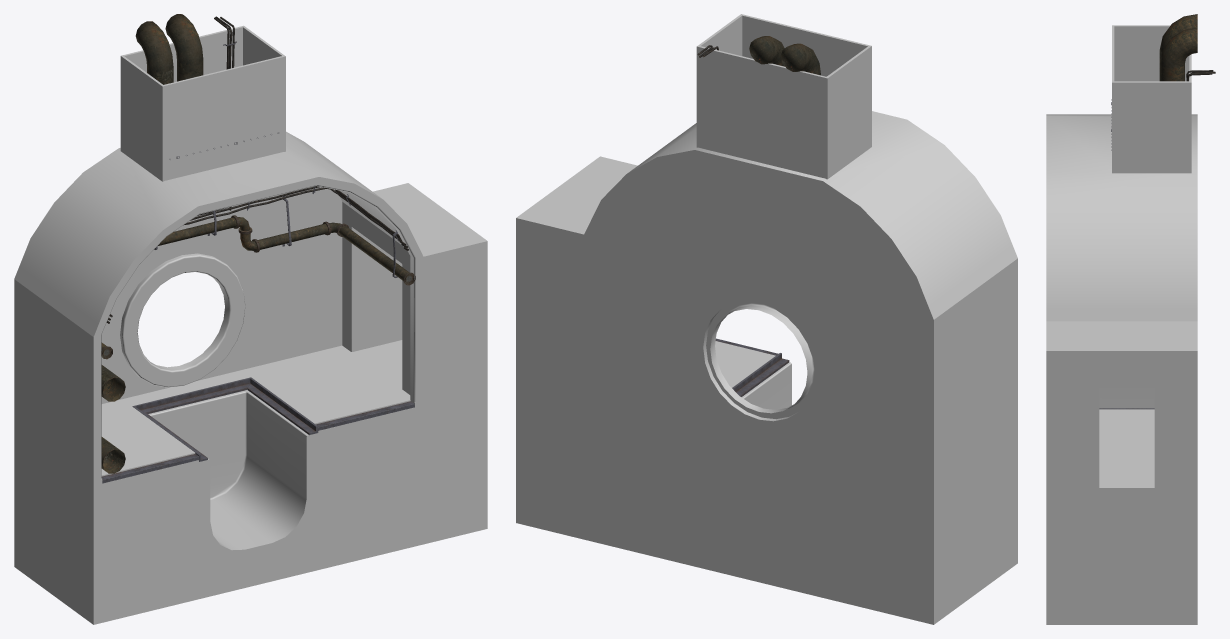
Rendered from SM_Sewer_Tunnel_I.fbx.
The picture shows the model from 3 angles, left to right: view 1: azimuth 30°, elevation 25°; view 2: azimuth 150°, elevation 25°; view 3: azimuth 270°, elevation 25°; orthographic projection. The views are drawn at different scales.
Visible parts, largest first — view 1: SMD_Sewer_Base_G_00, Ceiling, Wall_Right, SMD_Sewer_Wall_Gate_H, Wall_left, SMD_Sewer_Wall_Gate_Halo, Pipes_Big, SMD_Sewer_Halo_10, Pipes_Small, Rubber, polySurface405, SM_Sewer_Wall_C2 (+3 smaller); view 2: SMD_Sewer_Base_G_00, Ceiling, SMD_Sewer_Wall_Gate_H, Wall_Right, Wall_left, SMD_Sewer_Wall_Gate_Halo, Pipes_Big, SM_Sewer_Wall_C2, polySurface403; view 3: Ceiling, SMD_Sewer_Base_G_00, SM_Sewer_Wall_C2, Wall_Right, Pipes_Big.
Part boxes in pixels (x1,y1,x2,y2): SMD_Sewer_Base_G_00: [14, 340, 487, 624]; Ceiling: [14, 25, 423, 336]; Wall_Right: [342, 184, 483, 401]; SMD_Sewer_Wall_Gate_H: [101, 202, 342, 403]; Wall_left: [14, 279, 98, 480]; SMD_Sewer_Wall_Gate_Halo: [120, 253, 245, 387]; Pipes_Big: [101, 14, 203, 473]; SMD_Sewer_Halo_10: [97, 181, 419, 480]; Pipes_Small: [101, 217, 414, 357]; Rubber: [106, 16, 408, 323]; polySurface405: [133, 377, 250, 413]; SM_Sewer_Wall_C2: [404, 183, 487, 385]; SMD_Sewer_Base_G_00: [516, 341, 1017, 624]; Ceiling: [584, 14, 1017, 319]; SMD_Sewer_Wall_Gate_H: [589, 236, 928, 470]; Wall_Right: [521, 157, 637, 388]; Wall_left: [929, 258, 1017, 472]; SMD_Sewer_Wall_Gate_Halo: [706, 301, 814, 419]; Pipes_Big: [749, 36, 820, 75]; SM_Sewer_Wall_C2: [516, 156, 604, 371]; polySurface403: [732, 353, 789, 396]; Ceiling: [1046, 25, 1197, 321]; SMD_Sewer_Base_G_00: [1046, 387, 1197, 624]; SM_Sewer_Wall_C2: [1046, 349, 1197, 487]; Wall_Right: [1046, 321, 1197, 348]; Pipes_Big: [1159, 14, 1197, 81].
Bounding box in the file's own units: 860 × 1070 × 336.
